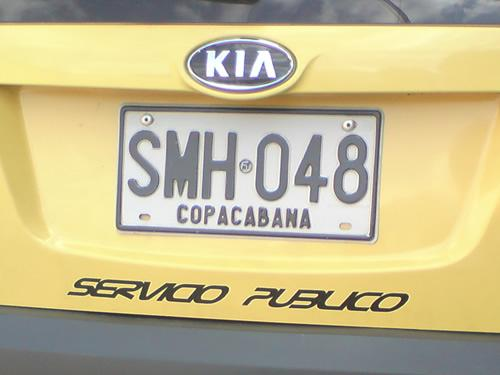placas: (112, 100, 386, 245)
